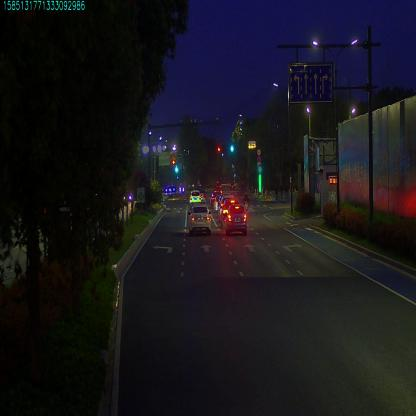traffic-light: (216, 143, 220, 152), (230, 145, 233, 153)
